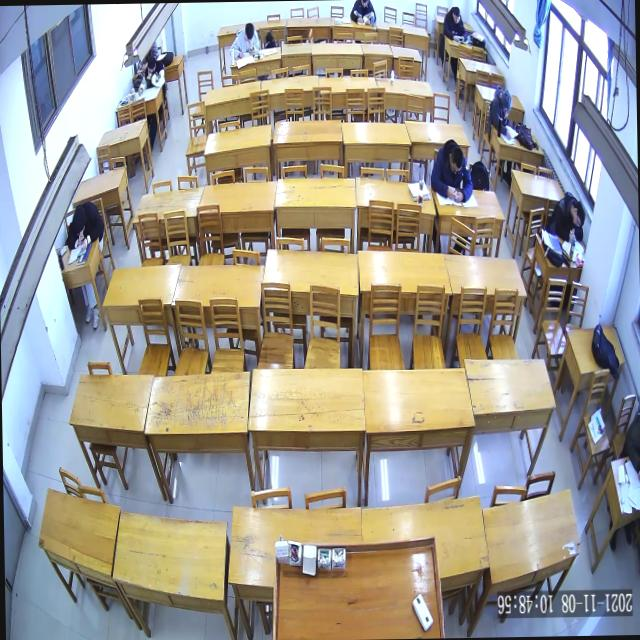bow: (62, 198, 105, 252)
down: (70, 203, 87, 236), (448, 144, 463, 177), (571, 200, 585, 230), (499, 87, 512, 114), (243, 20, 254, 42), (144, 54, 156, 74)
sit: (428, 136, 474, 204), (548, 189, 586, 246), (487, 84, 512, 140), (228, 20, 260, 59), (136, 53, 165, 96), (442, 4, 468, 43)
